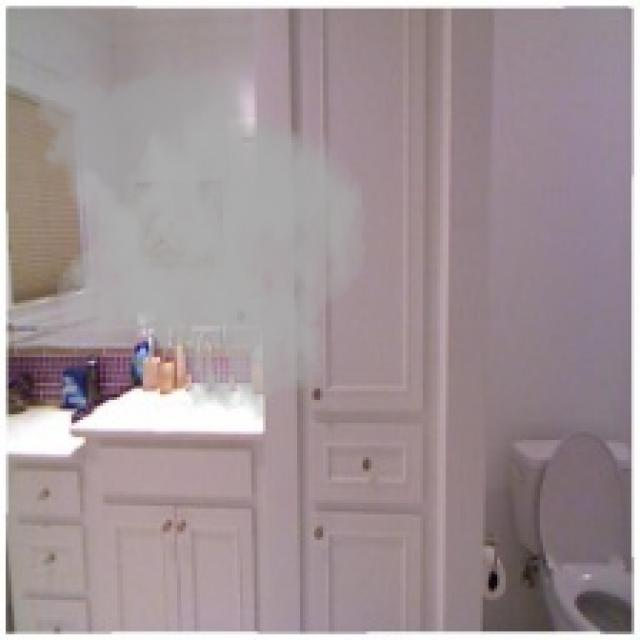smoke: (20, 54, 369, 423)
